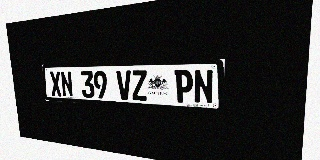3: (80, 71, 95, 98)
9: (93, 71, 108, 99)
N: (194, 69, 213, 104), (60, 71, 73, 97)
P: (174, 70, 193, 103)
V: (116, 70, 132, 100)
X: (49, 71, 62, 96)
Z: (131, 70, 148, 101)
